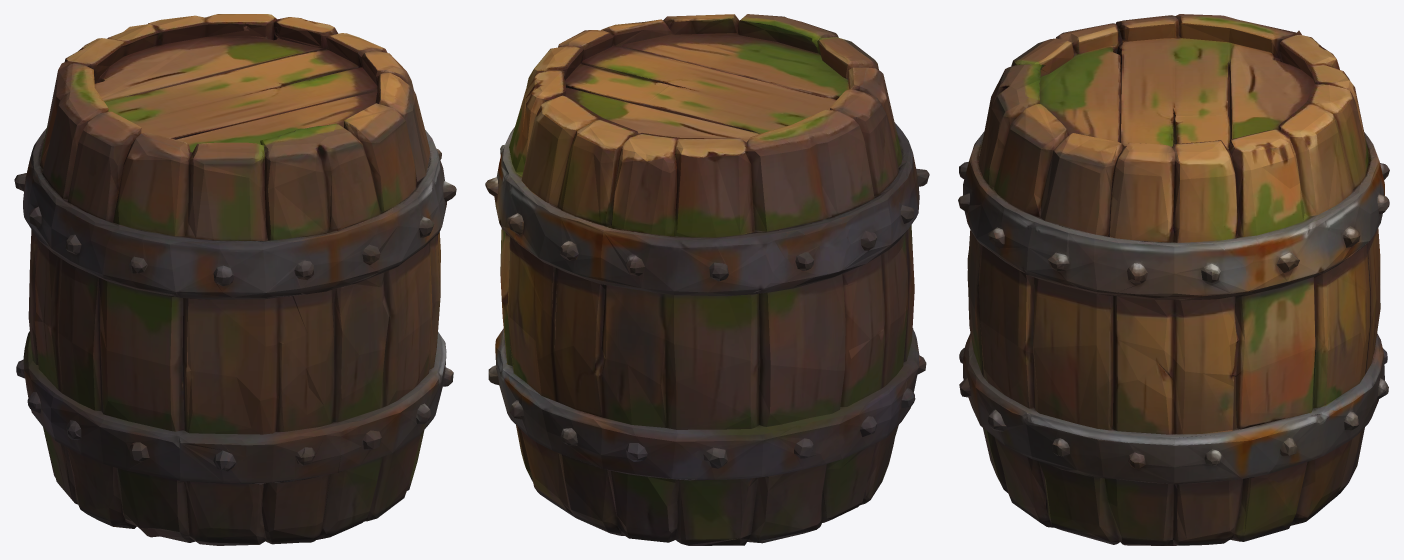
File: barrel.glb
3 renders of one model, left to right at view 1: azimuth 30°, elevation 25°; view 2: azimuth 150°, elevation 25°; view 3: azimuth 270°, elevation 25°, orthographic.
Visible parts, largest first — view 1: world; view 2: world; view 3: world.
Boxes of the visible parts, box(x1,y1,x2,y2) form: world: box(14, 14, 456, 545); world: box(485, 14, 929, 545); world: box(958, 14, 1389, 545).
Size of the model in its own units: 0.9558 by 0.9894 by 0.9598.
1 material, 1 textured.
